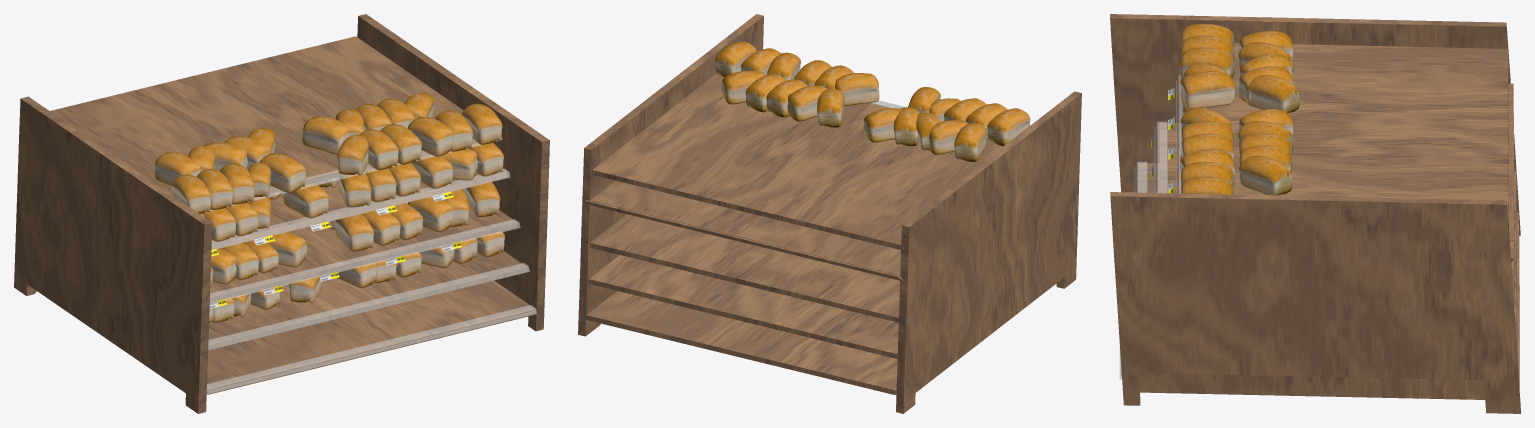
File: Store.glb
The picture shows the model from 3 angles, left to right: view 1: azimuth 30°, elevation 25°; view 2: azimuth 150°, elevation 25°; view 3: azimuth 270°, elevation 25°; orthographic projection. The views are drawn at different scales.
Visible parts, largest first — view 1: Grocery Price Sticker.002, bread_low.053, bread_low.052, bread_low.046, bread_low.063, bread_low.073, bread_low.010, bread_low.048, bread_low.043, bread_low.044, bread_low.058, bread_low.003 (+34 smaller); view 2: Grocery Price Sticker.002, bread_low.043, bread_low.048, bread_low.058, bread_low.054, bread_low.062, bread_low.053, bread_low.063, bread_low.057, bread_low.059, bread_low.056, bread_low.061 (+9 smaller); view 3: Grocery Price Sticker.002, bread_low.052, bread_low.057, bread_low.062, bread_low.050, bread_low.045, bread_low.047, bread_low.063, bread_low.061, bread_low.058, bread_low.053, bread_low.054 (+9 smaller).
Part boxes in pixels (x1,y1,x2,y2): Grocery Price Sticker.002: [14, 14, 549, 413]; bread_low.053: [301, 116, 348, 154]; bread_low.052: [259, 153, 306, 192]; bread_low.046: [408, 117, 452, 156]; bread_low.063: [462, 103, 502, 144]; bread_low.073: [283, 183, 328, 218]; bread_low.010: [335, 213, 374, 251]; bread_low.048: [172, 174, 211, 214]; bread_low.043: [337, 134, 368, 175]; bread_low.044: [360, 129, 398, 170]; bread_low.058: [154, 152, 200, 186]; bread_low.003: [407, 195, 453, 232]; Grocery Price Sticker.002: [578, 14, 1081, 413]; bread_low.043: [835, 73, 879, 106]; bread_low.048: [987, 108, 1030, 146]; bread_low.058: [954, 123, 987, 161]; bread_low.054: [787, 85, 827, 121]; bread_low.062: [863, 108, 901, 142]; bread_low.053: [817, 88, 844, 127]; bread_low.063: [714, 41, 756, 77]; bread_low.057: [721, 70, 765, 104]; bread_low.059: [929, 120, 967, 154]; bread_low.056: [745, 74, 785, 112]; bread_low.061: [893, 107, 920, 146]; Grocery Price Sticker.002: [1110, 14, 1520, 413]; bread_low.052: [1180, 71, 1235, 109]; bread_low.057: [1239, 155, 1292, 195]; bread_low.062: [1245, 75, 1299, 113]; bread_low.050: [1180, 47, 1234, 79]; bread_low.045: [1181, 133, 1233, 160]; bread_low.047: [1181, 161, 1234, 191]; bread_low.063: [1181, 176, 1233, 194]; bread_low.061: [1238, 66, 1293, 105]; bread_low.058: [1238, 31, 1293, 60]; bread_low.053: [1238, 109, 1293, 136]; bread_low.054: [1238, 121, 1293, 151].
Bounding box in the file's own units: 1.97 × 1.13 × 1.88.
Materials: 4 (3 with a texture image).
